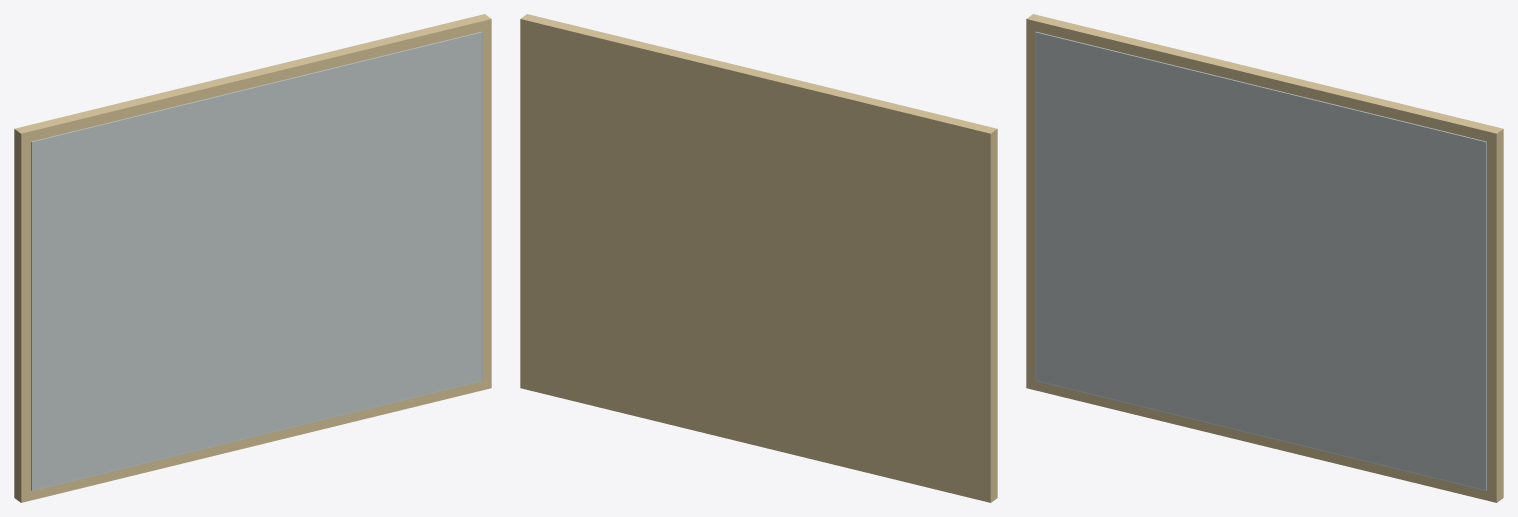
File: espelho_120x90.glb
3 views of the same model, side by side, from view 1: azimuth 30°, elevation 25°; view 2: azimuth 150°, elevation 25°; view 3: azimuth 330°, elevation 25° (orthographic).
Parts seen in each view (by area): view 1: espelho_120x90; view 2: espelho_120x90; view 3: espelho_120x90.
Part boxes in pixels (x1=…): espelho_120x90: x1=14, y1=14, x2=491, y2=502; espelho_120x90: x1=520, y1=14, x2=997, y2=502; espelho_120x90: x1=1026, y1=14, x2=1503, y2=502.
Bounding box in the file's own units: 1.2 × 0.9 × 0.034.
